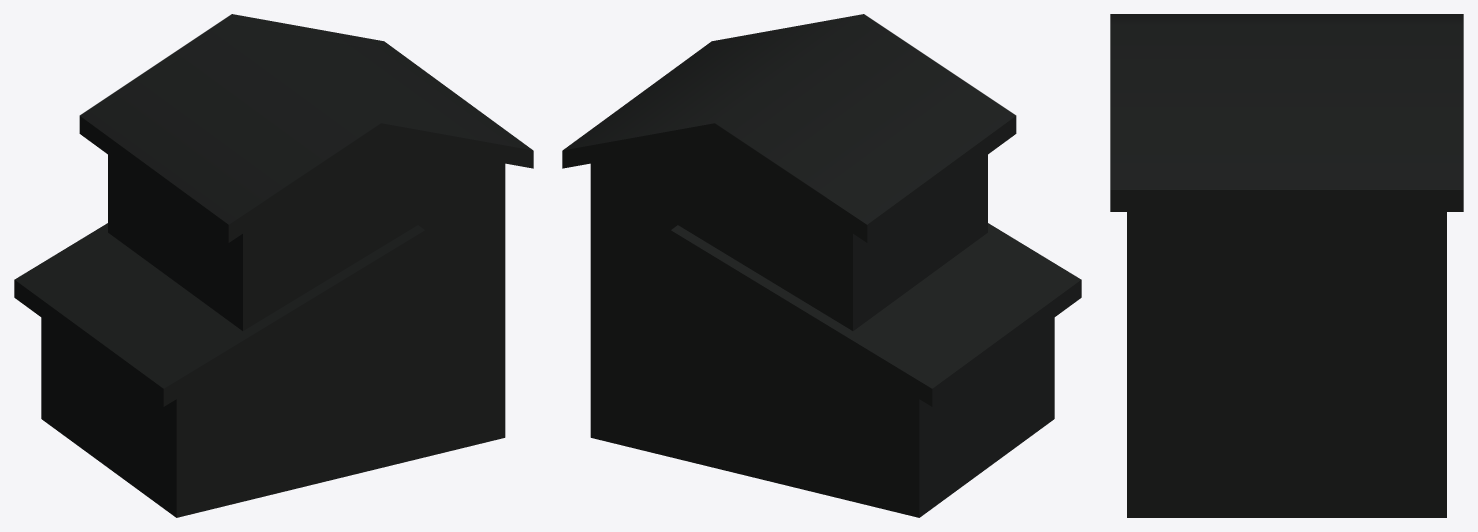
File: AMB_HAUSE01.glb
3 renders of one model, left to right at view 1: azimuth 30°, elevation 25°; view 2: azimuth 150°, elevation 25°; view 3: azimuth 270°, elevation 25°, orthographic. The views are drawn at different scales.
Visible parts, largest first — view 1: BASE; view 2: BASE; view 3: BASE.
Boxes of the visible parts, bbox=[...] form: BASE: bbox=[14, 14, 533, 517]; BASE: bbox=[562, 14, 1081, 517]; BASE: bbox=[1110, 14, 1463, 517].
Size of the model in its own units: 45.29 by 41.17 by 31.65.
1 material, 1 textured.
